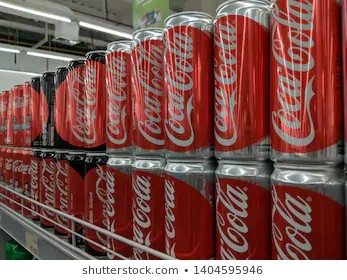coke-can: (273, 1, 341, 159), (215, 1, 274, 159), (164, 7, 211, 160), (273, 166, 344, 257), (213, 161, 272, 257), (161, 163, 215, 255), (132, 26, 164, 157), (104, 36, 137, 156), (129, 159, 164, 260), (107, 159, 129, 259)
